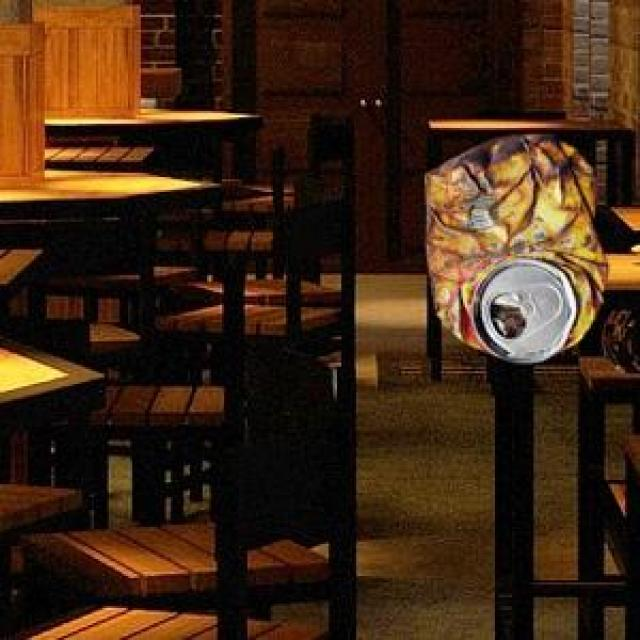logam: (423, 131, 605, 359)
